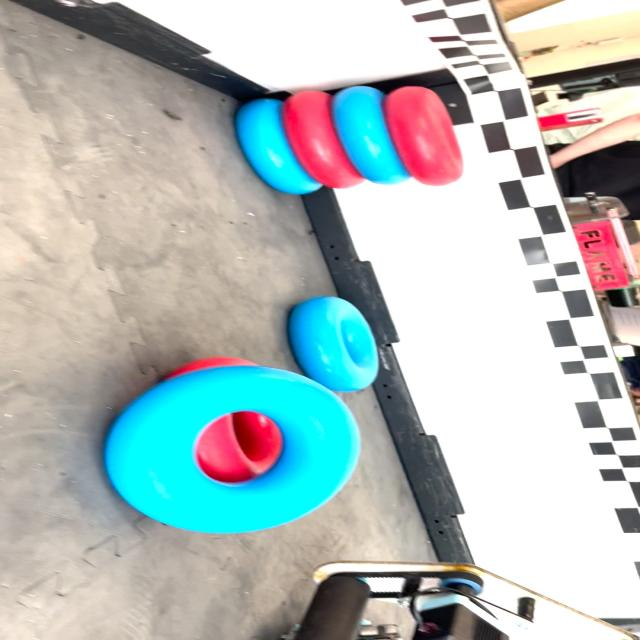Blue-Ring: (104, 366, 360, 532), (289, 296, 378, 391), (236, 99, 322, 195), (331, 86, 411, 185)
Red-Ring: (282, 91, 364, 189), (384, 86, 462, 186)
